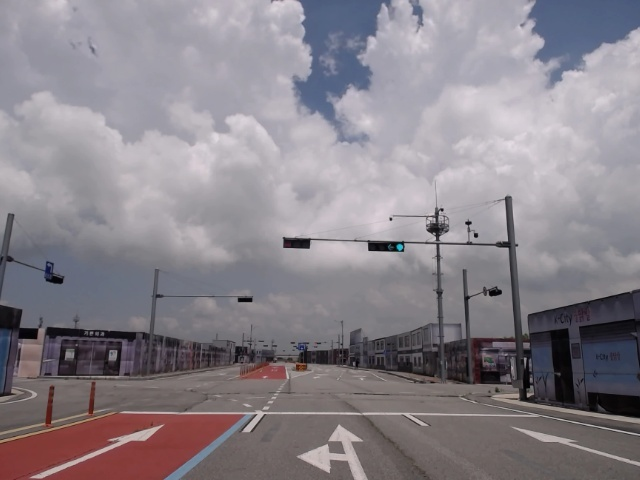all_green_4: (369, 240, 405, 250)
